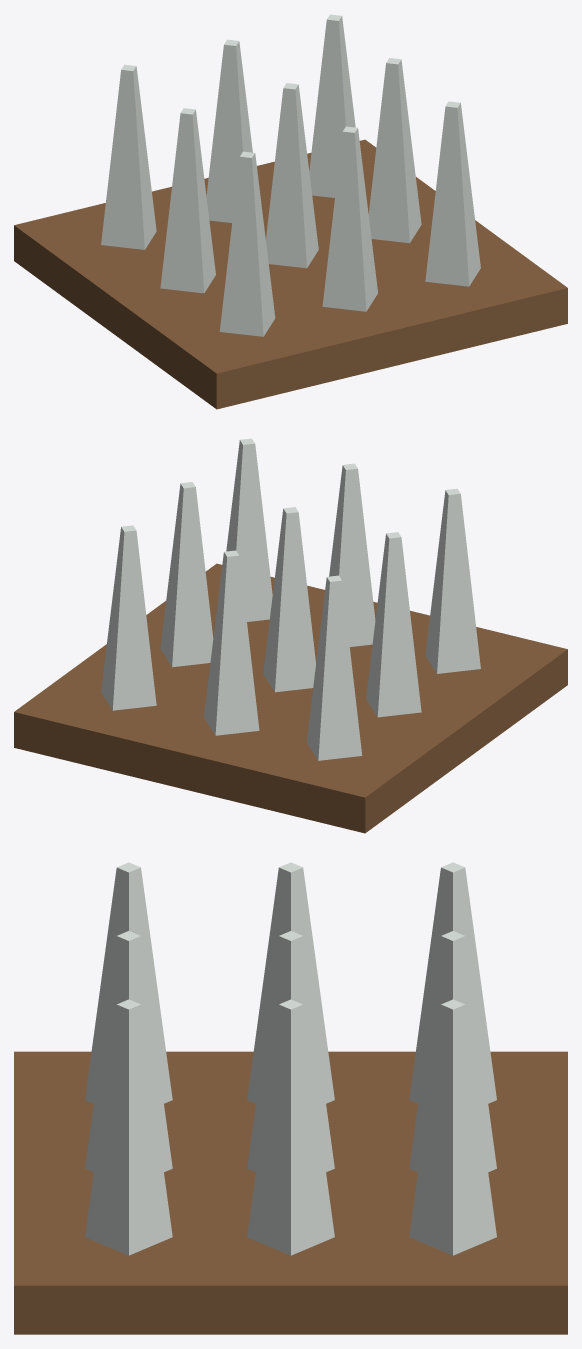
Rendered from spikeTrap.glb.
3 views of the same model, one above another, from view 1: azimuth 30°, elevation 25°; view 2: azimuth 150°, elevation 25°; view 3: azimuth 270°, elevation 25° (orthographic). The views are drawn at different scales.
Visible parts, largest first — view 1: TrapBase, TrapSpike, TrapSpike.006, TrapSpike.002, TrapSpike.003, TrapSpike.001, TrapSpike.007, TrapSpike.004, TrapSpike.008, TrapSpike.005; view 2: TrapBase, TrapSpike.002, TrapSpike.008, TrapSpike, TrapSpike.005, TrapSpike.001, TrapSpike.007, TrapSpike.004, TrapSpike.006, TrapSpike.003; view 3: TrapBase, TrapSpike.007, TrapSpike.006, TrapSpike.008, TrapSpike.001, TrapSpike, TrapSpike.002, TrapSpike.003, TrapSpike.005, TrapSpike.004.
Boxes of the visible parts, box(x1,y1,x2,y2) form: TrapBase: box(14, 139, 567, 409); TrapSpike: box(219, 151, 275, 336); TrapSpike.006: box(425, 101, 480, 286); TrapSpike.002: box(101, 64, 156, 249); TrapSpike.003: box(322, 126, 377, 311); TrapSpike.001: box(160, 108, 215, 293); TrapSpike.007: box(368, 58, 421, 243); TrapSpike.004: box(266, 83, 318, 268); TrapSpike.008: box(309, 14, 355, 197); TrapSpike.005: box(206, 39, 252, 222); TrapBase: box(14, 563, 567, 833); TrapSpike.002: box(306, 575, 362, 760); TrapSpike.008: box(101, 525, 156, 710); TrapSpike: box(425, 488, 480, 673); TrapSpike.005: box(204, 550, 259, 735); TrapSpike.001: box(366, 532, 421, 717); TrapSpike.007: box(160, 482, 213, 667); TrapSpike.004: box(263, 507, 315, 692); TrapSpike.006: box(226, 438, 272, 621); TrapSpike.003: box(329, 463, 375, 646); TrapBase: box(14, 1051, 567, 1334); TrapSpike.007: box(247, 999, 334, 1255); TrapSpike.006: box(85, 999, 172, 1255); TrapSpike.008: box(409, 999, 496, 1255); TrapSpike.001: box(247, 862, 334, 1103); TrapSpike: box(85, 862, 172, 1103); TrapSpike.002: box(409, 862, 496, 1103); TrapSpike.003: box(85, 931, 172, 1171); TrapSpike.005: box(409, 931, 496, 1171); TrapSpike.004: box(247, 931, 334, 1172).
Bounding box in the file's own units: 0.82 × 0.46 × 0.82.
